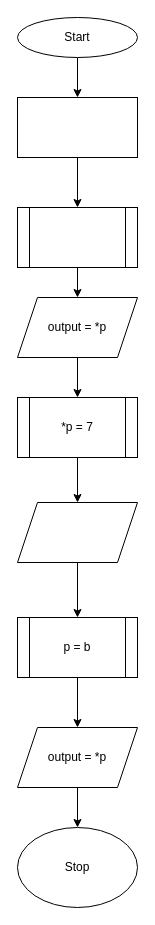
The diagram is 155 pixels wide and 925 high, and some of its shapes have lost their labels. The box of each missing label's shape, as (x1, y1, x2, y2) in pixels:
int a = 5 int b = 10 int *p: (16, 96, 138, 158)
output = a: (16, 502, 138, 562)
p = a: (16, 206, 138, 268)
